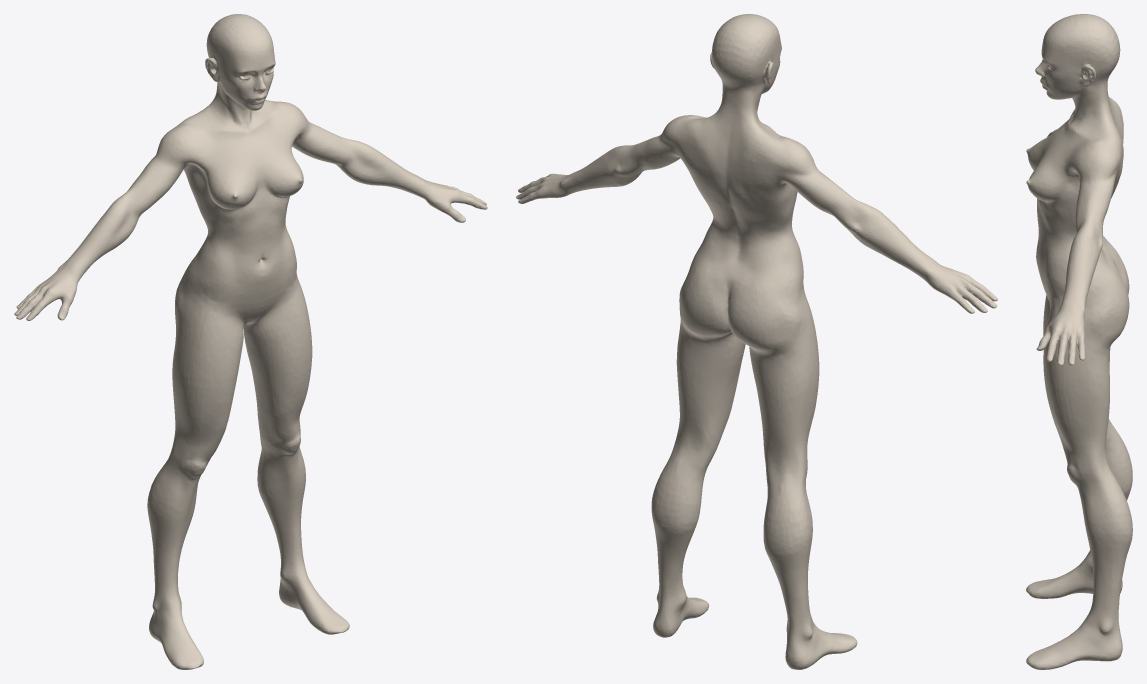
File: woman.glb
3 renders of one model, left to right at view 1: azimuth 30°, elevation 25°; view 2: azimuth 150°, elevation 25°; view 3: azimuth 270°, elevation 25°, orthographic. The views are drawn at different scales.
Parts seen in each view (by area): view 1: female_base; view 2: female_base; view 3: female_base.
Boxes of the visible parts, left/top/right/bottom form: female_base: left=14, top=14, right=487, bottom=669; female_base: left=516, top=14, right=997, bottom=669; female_base: left=1026, top=14, right=1132, bottom=669.
Bounding box in the file's own units: 1.52 × 1.9 × 0.3008.
